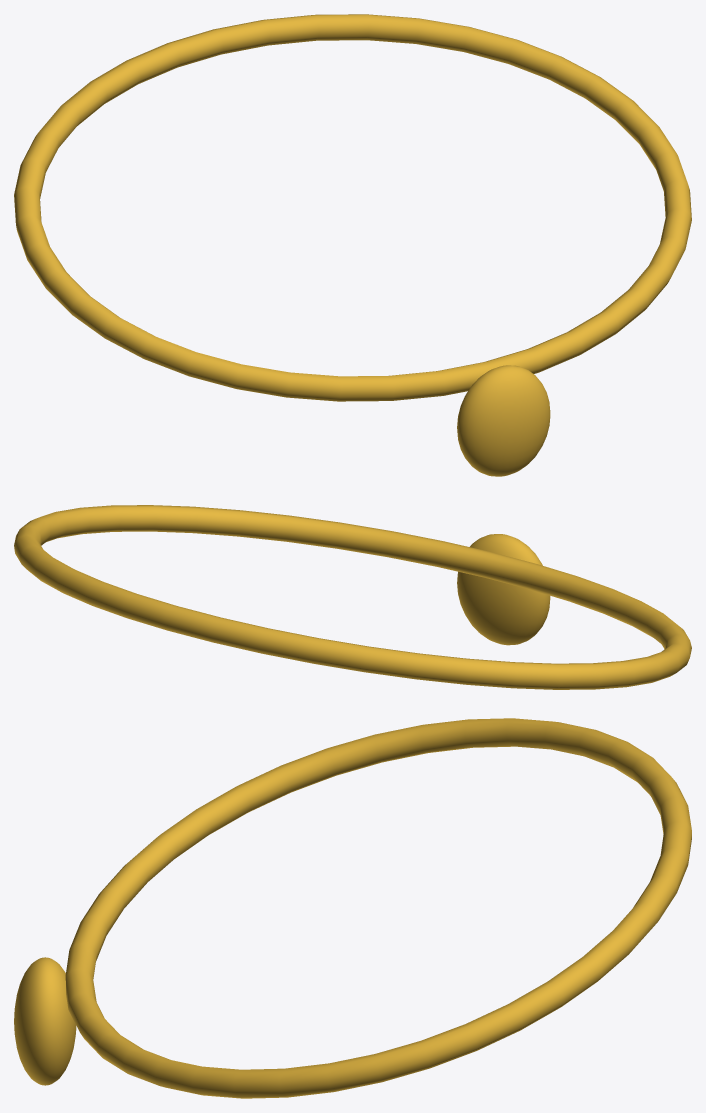
File: wear-necklace.glb
3 views of the same model, one above another, from view 1: azimuth 30°, elevation 25°; view 2: azimuth 150°, elevation 25°; view 3: azimuth 270°, elevation 25° (orthographic). The views are drawn at different scales.
Visible parts, largest first — view 1: wear-necklace; view 2: wear-necklace; view 3: wear-necklace.
Boxes of the visible parts, x1,y1,x2,y2 form: wear-necklace: (14,14,691,476); wear-necklace: (14,505,691,689); wear-necklace: (14,718,691,1098).
Size of the model in its own units: 0.4598 by 0.1676 by 0.3969.
